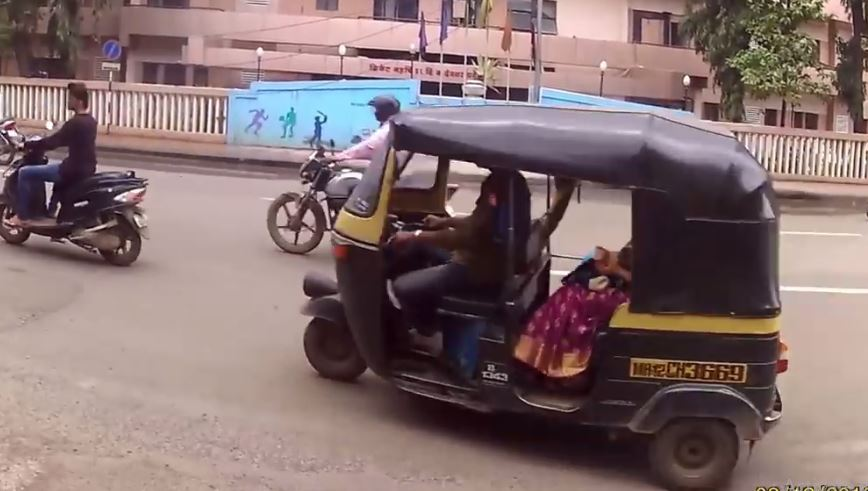autorickshaw: (300, 97, 795, 491)
